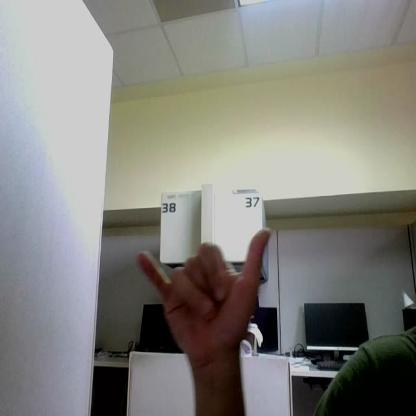Y: (138, 228, 270, 353)
